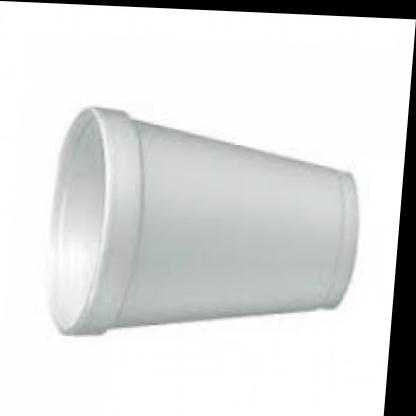trash: (50, 107, 357, 333)
